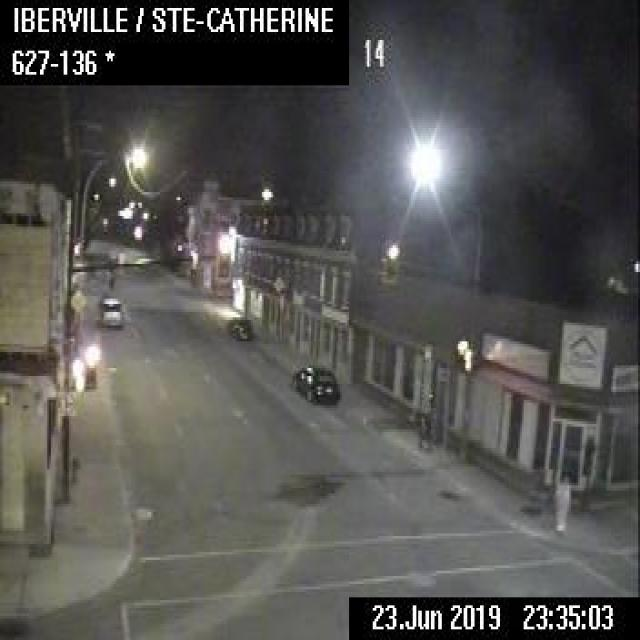pedestrian: (554, 467, 568, 530)
vehicle: (289, 364, 339, 403), (98, 295, 122, 326), (226, 315, 251, 339)
